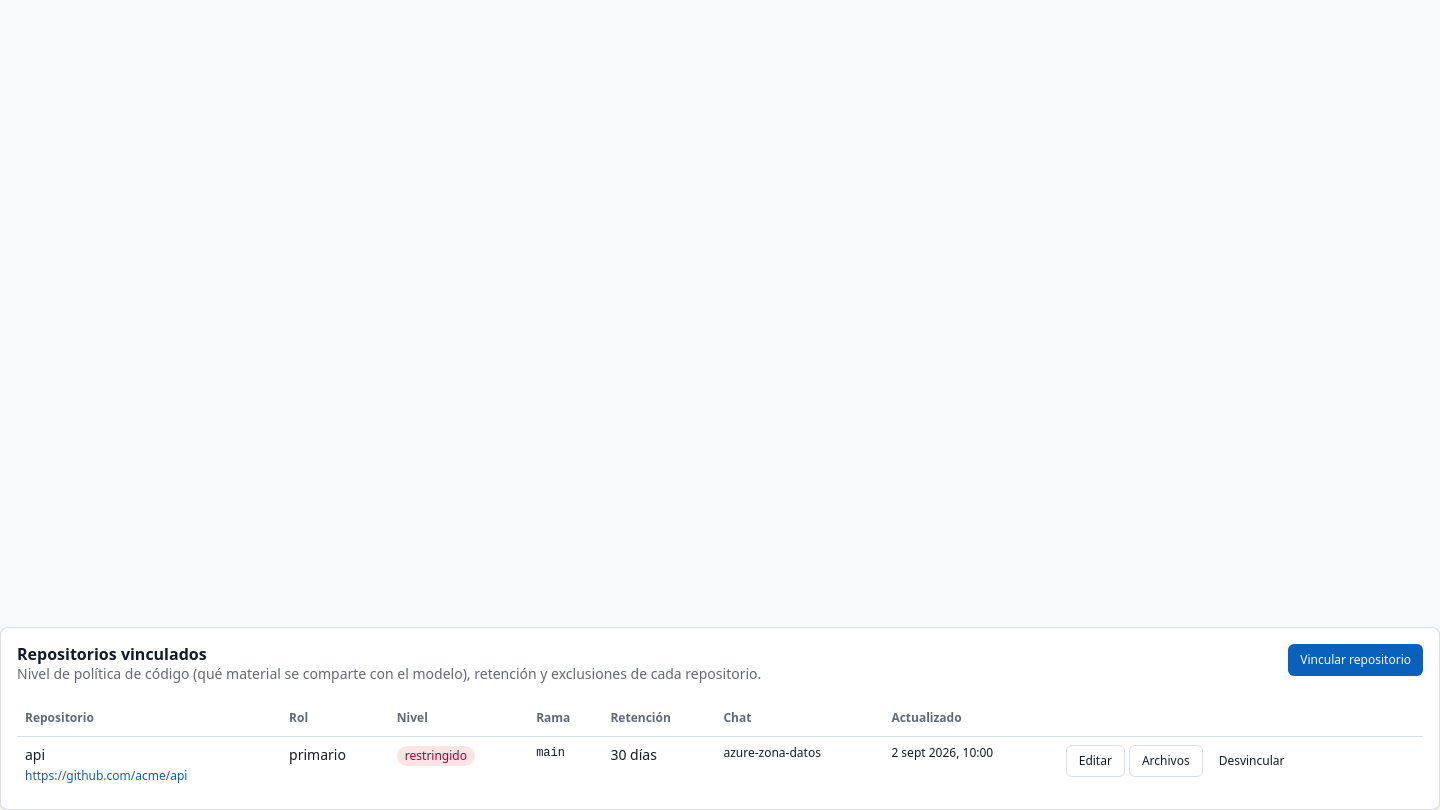
Test: archivos del repositorio › un archivo que aún no existe parte de la plantilla y lo avisa
(page scrolled)
Step 1. Click the button "Archivos" → coordinates (1166, 760), box [1129,744,1203,776]
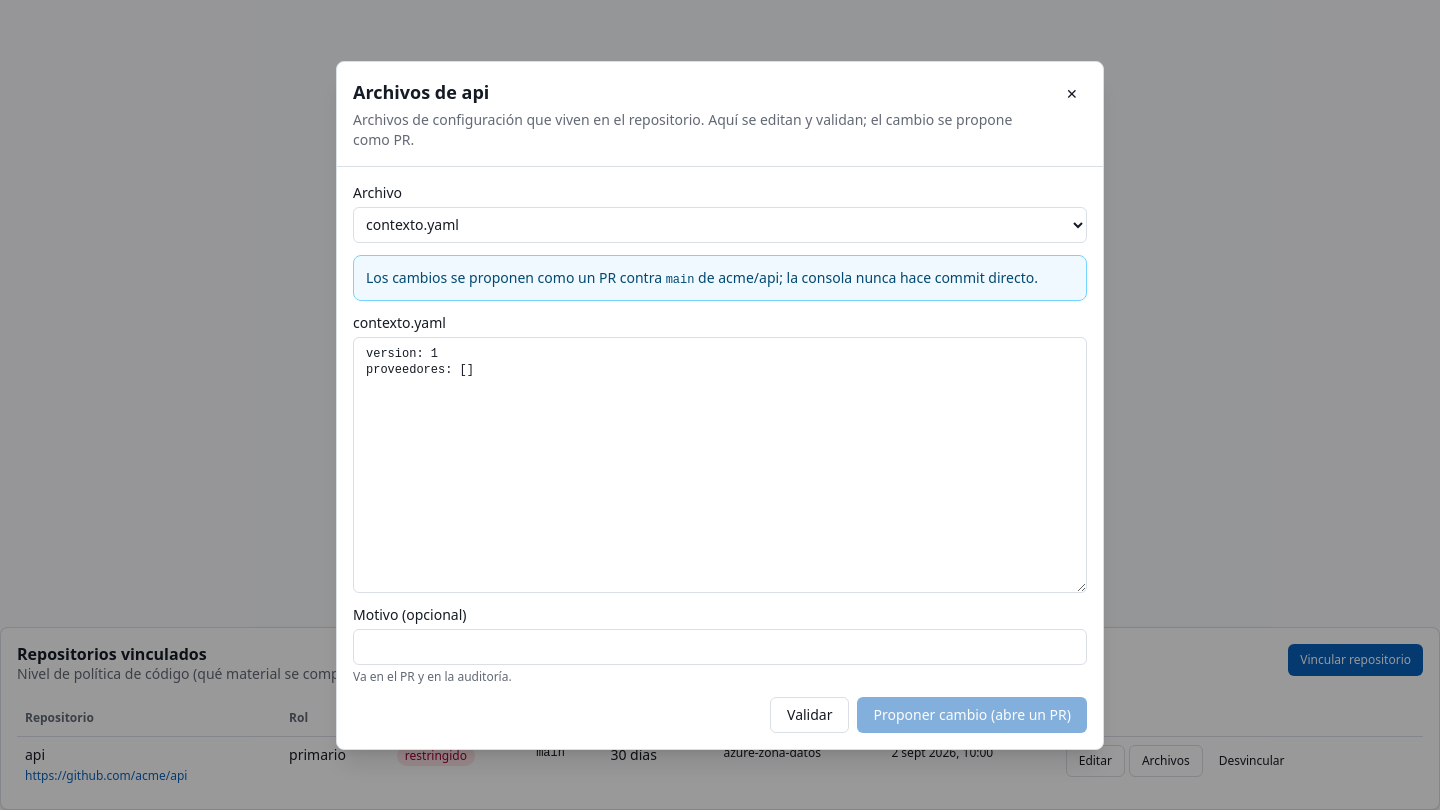
Now the text "se proponen como un PR" is shown, box [366,268,666,286]
Step 2. Select ".railspecignore" in the dropdown labelled "Archivo" → coordinates (720, 224), box [353,206,1087,242]
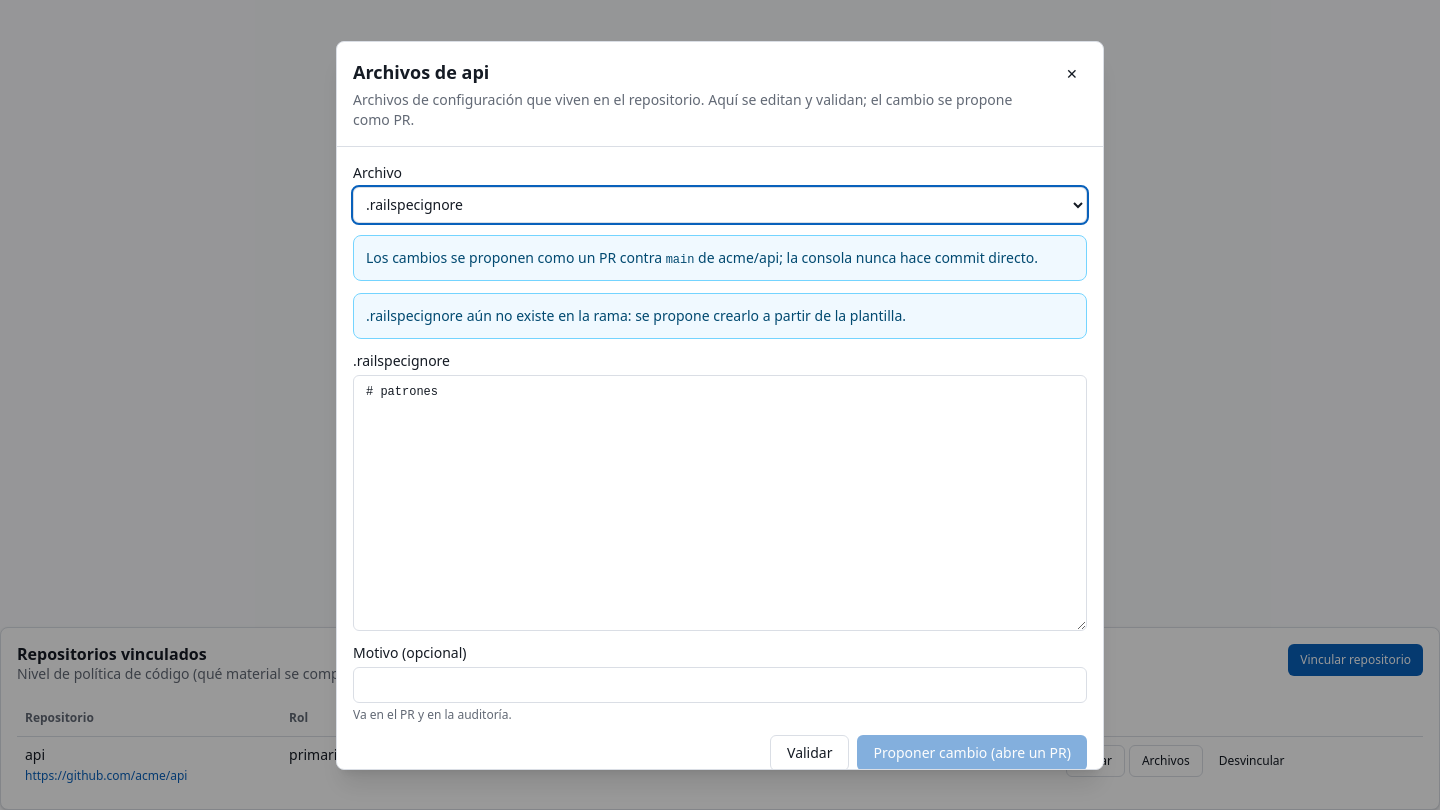
Now the text "aún no existe en la rama" is shown, box [463,306,906,324]
